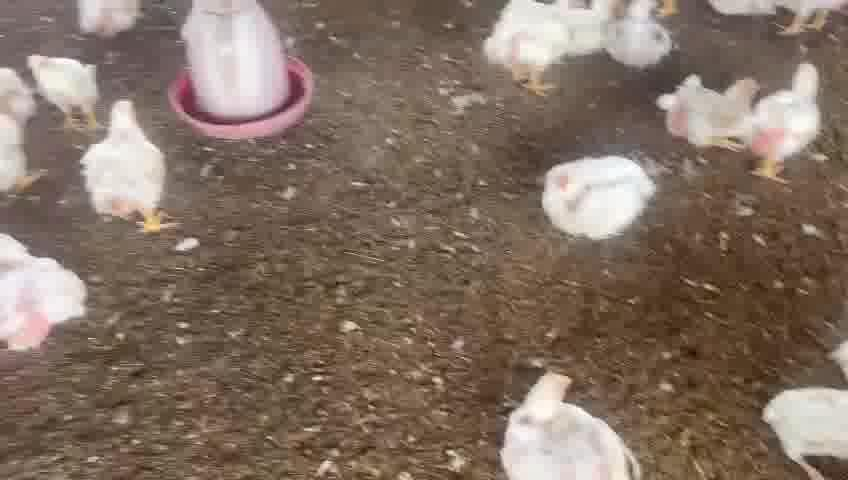AbNormal: (503, 371, 636, 480), (540, 154, 651, 242), (661, 71, 765, 153)
Normal: (81, 95, 168, 224), (752, 62, 825, 184), (491, 0, 572, 98), (26, 52, 103, 132)
